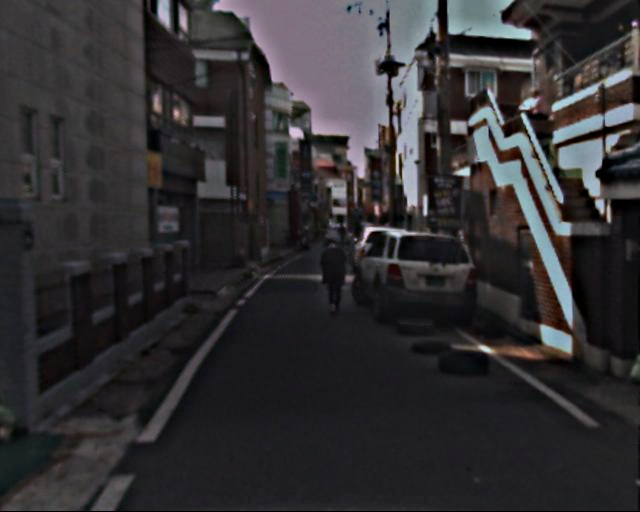person: (315, 234, 349, 318)
